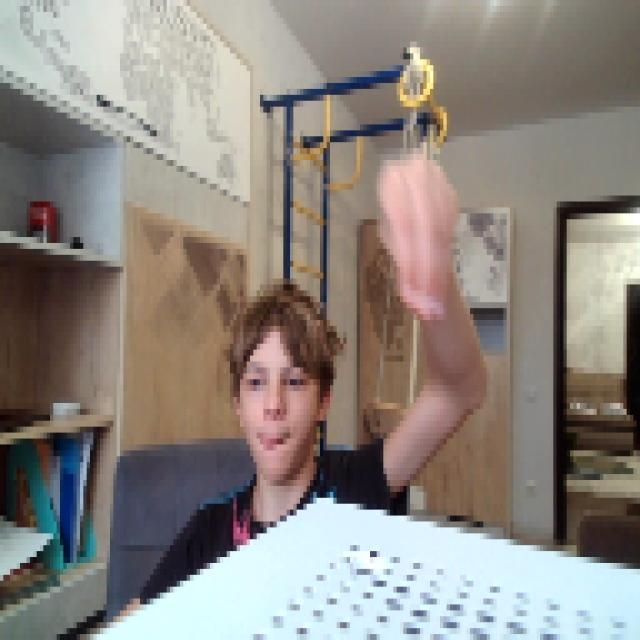left_click: (370, 142, 457, 308)
